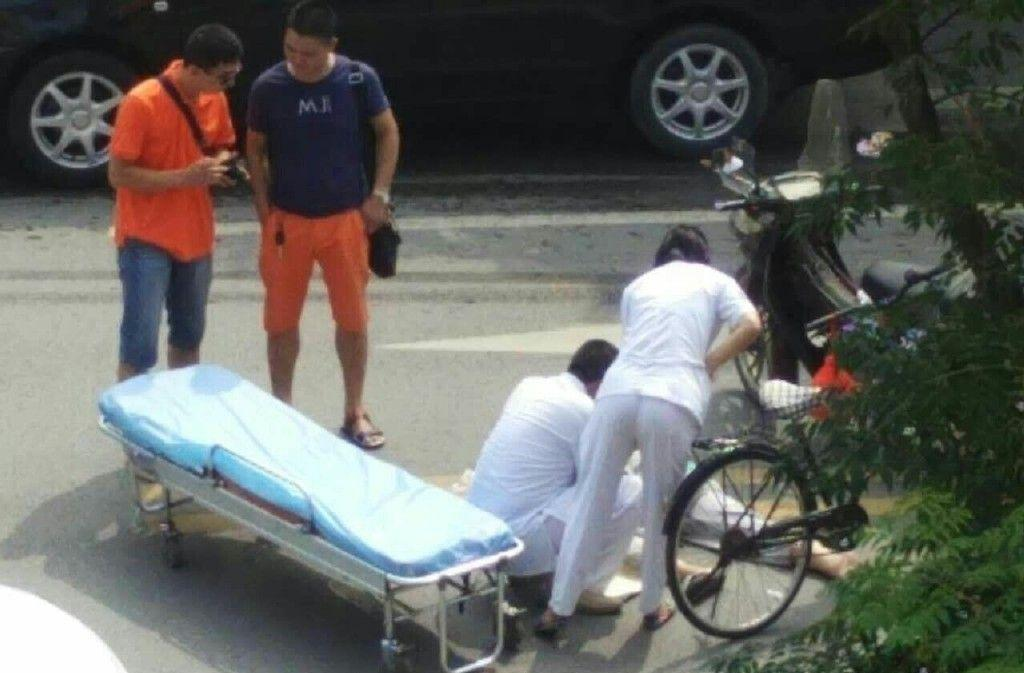bending: (518, 205, 759, 646), (439, 316, 668, 629)
up: (232, 20, 448, 480), (107, 29, 270, 532)
